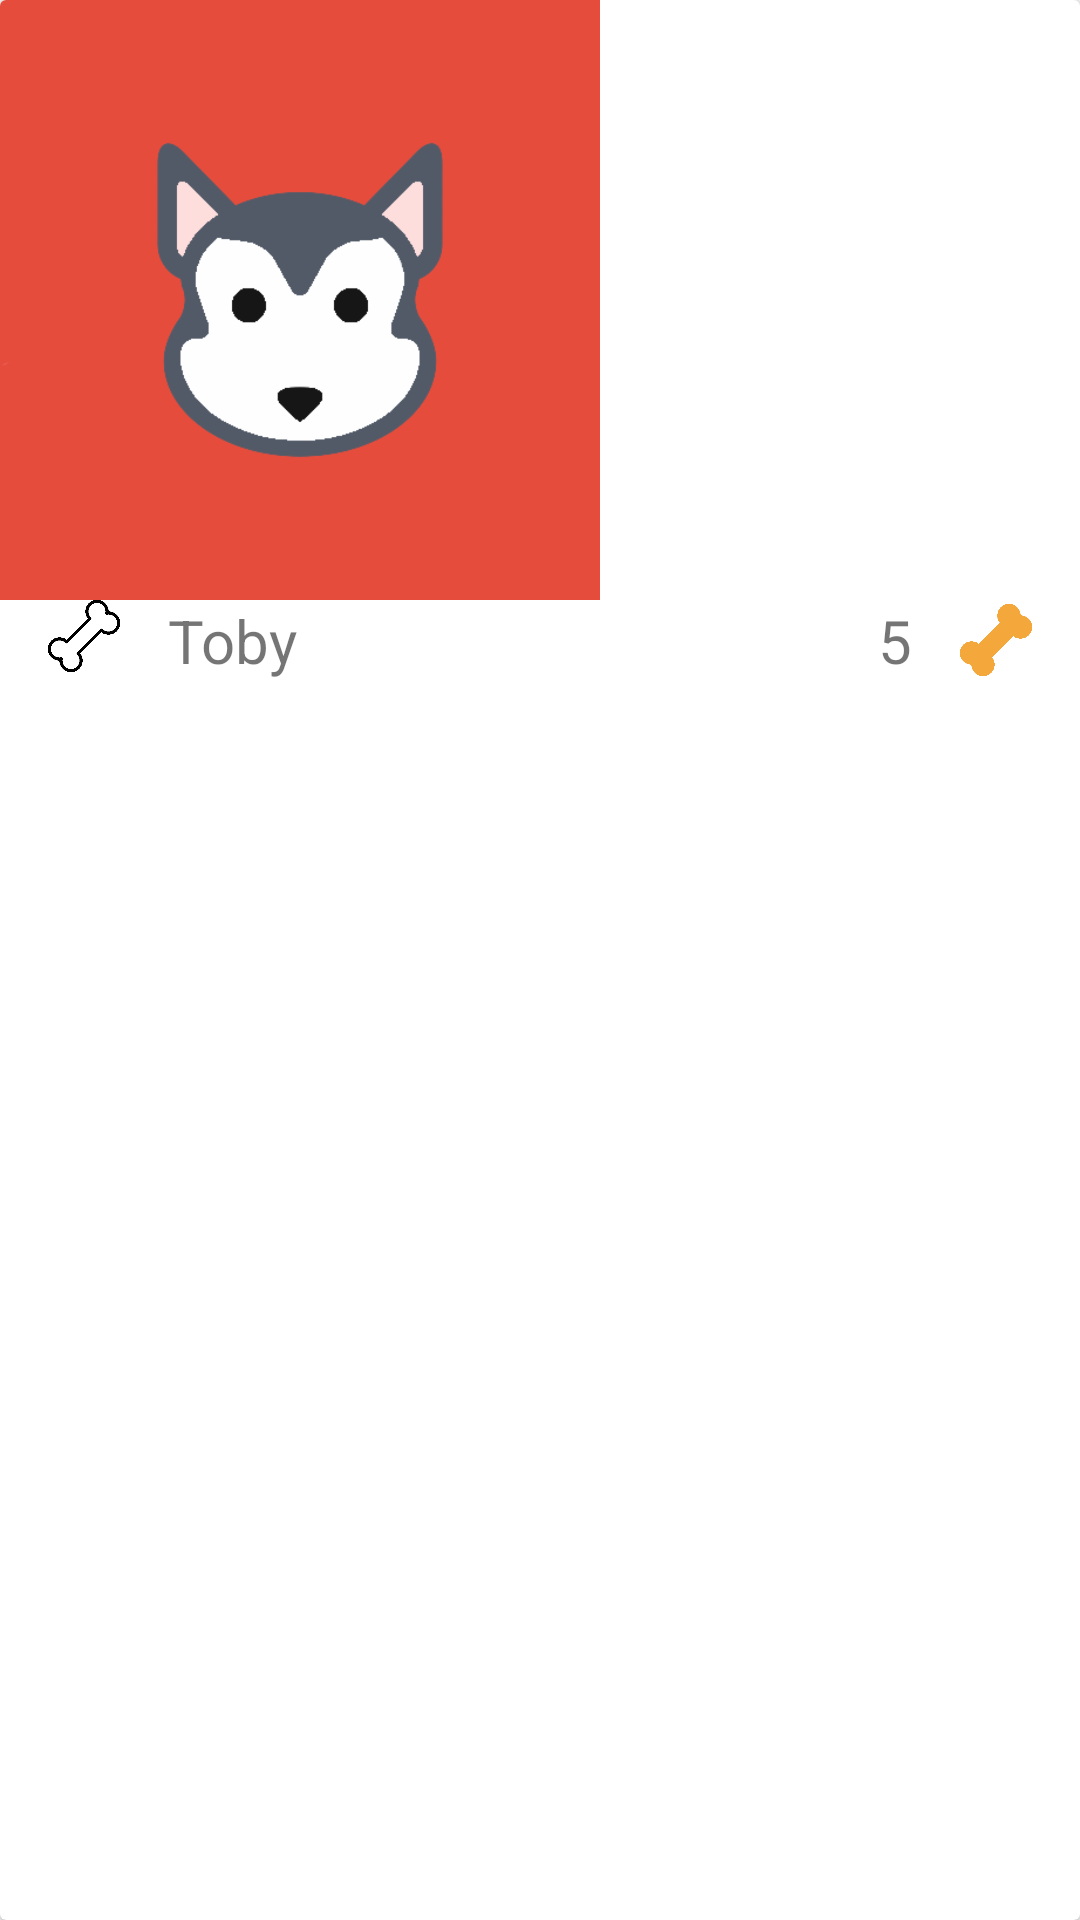

Named icons in this screenshot (1080px x 1920px) and their centers, [x,y]:
hueso: [84,636]
hueso amarillo: [996,640]
